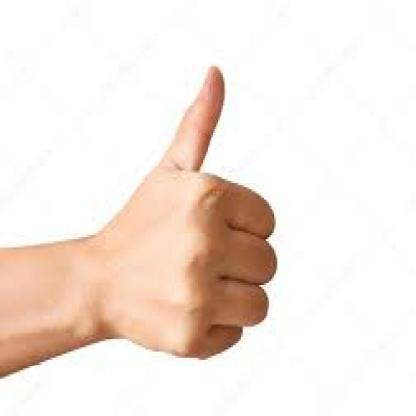thumb_up: (84, 61, 278, 361)
